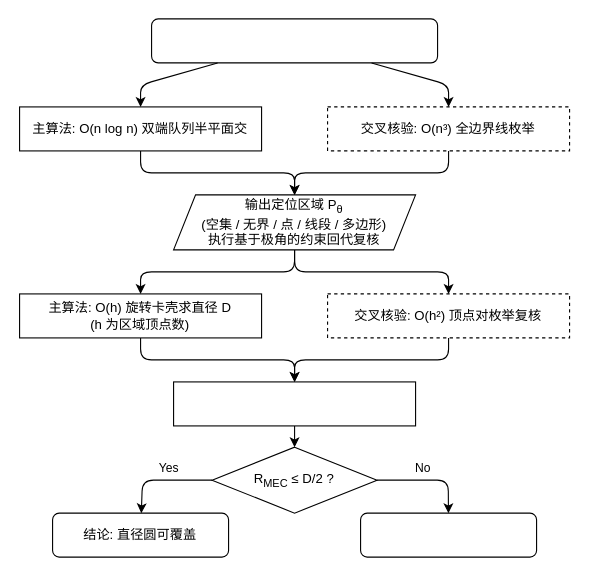
Some shapes in this 589 by 578 pixel diagram are drawn without their labels. Each missing label, with the centre of its shape:
确定性 MEC: 求最小覆盖圆半径 R_MEC 并检查全部顶点包含性: [294,403]
结论: 直径圆不能覆盖: [448,534]
输入: 观测点 S i , 示向度 θ i , 误差 ±1°: [294,40]
